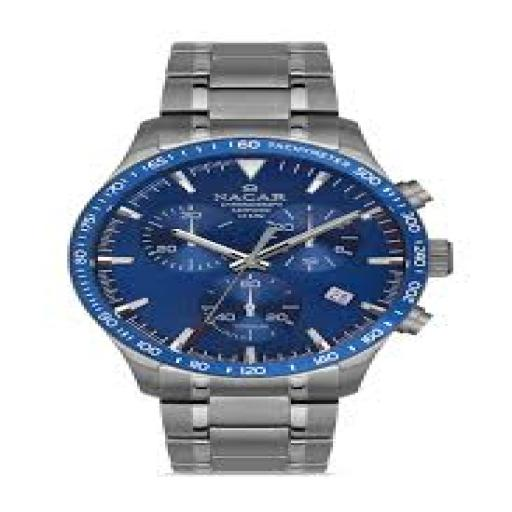KolSaati: (48, 18, 463, 493)
